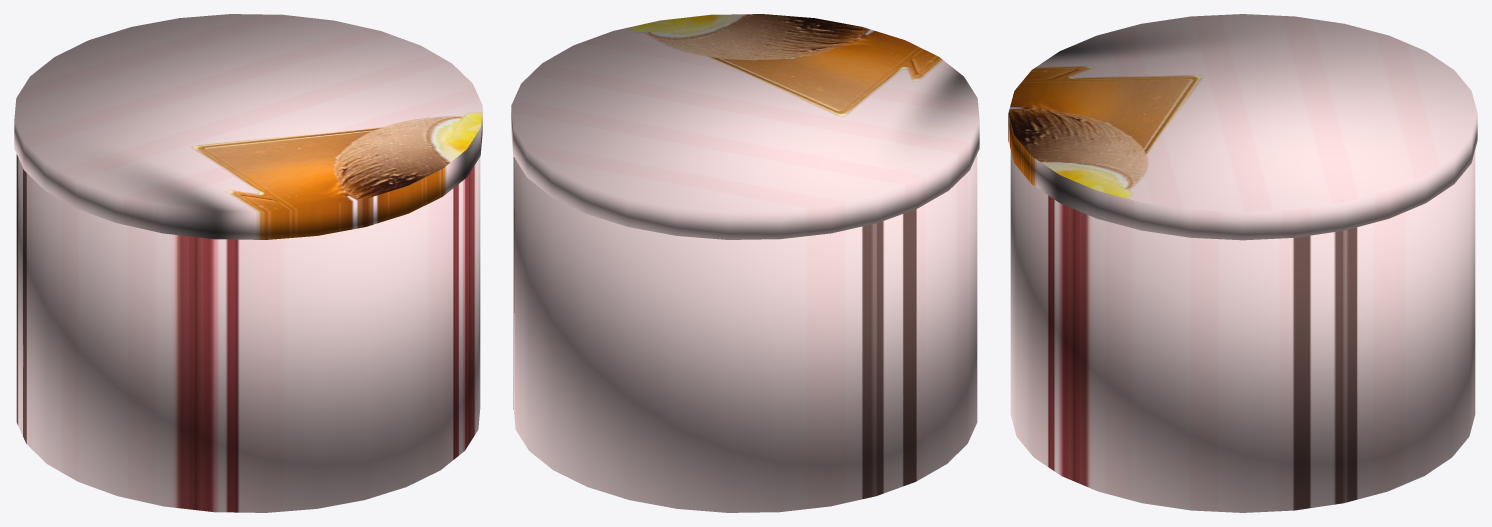
File: prop_coconut_entrement.glb
3 views of the same model, side by side, from view 1: azimuth 30°, elevation 25°; view 2: azimuth 150°, elevation 25°; view 3: azimuth 270°, elevation 25° (orthographic).
Parts seen in each view (by area): view 1: prop_coconut_entrement; view 2: prop_coconut_entrement; view 3: prop_coconut_entrement.
Part boxes in pixels (x1=…): prop_coconut_entrement: x1=14, y1=14, x2=482, y2=512; prop_coconut_entrement: x1=511, y1=14, x2=979, y2=512; prop_coconut_entrement: x1=1008, y1=14, x2=1477, y2=512.
Bounding box in the file's own units: 0.1212 × 0.086 × 0.1212.
Materials: 1 (1 with a texture image).
